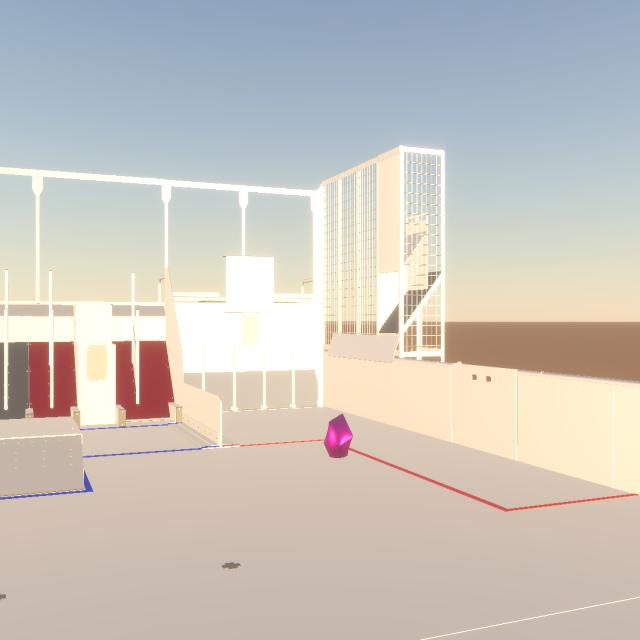frc_cube: (324, 414, 353, 458)
